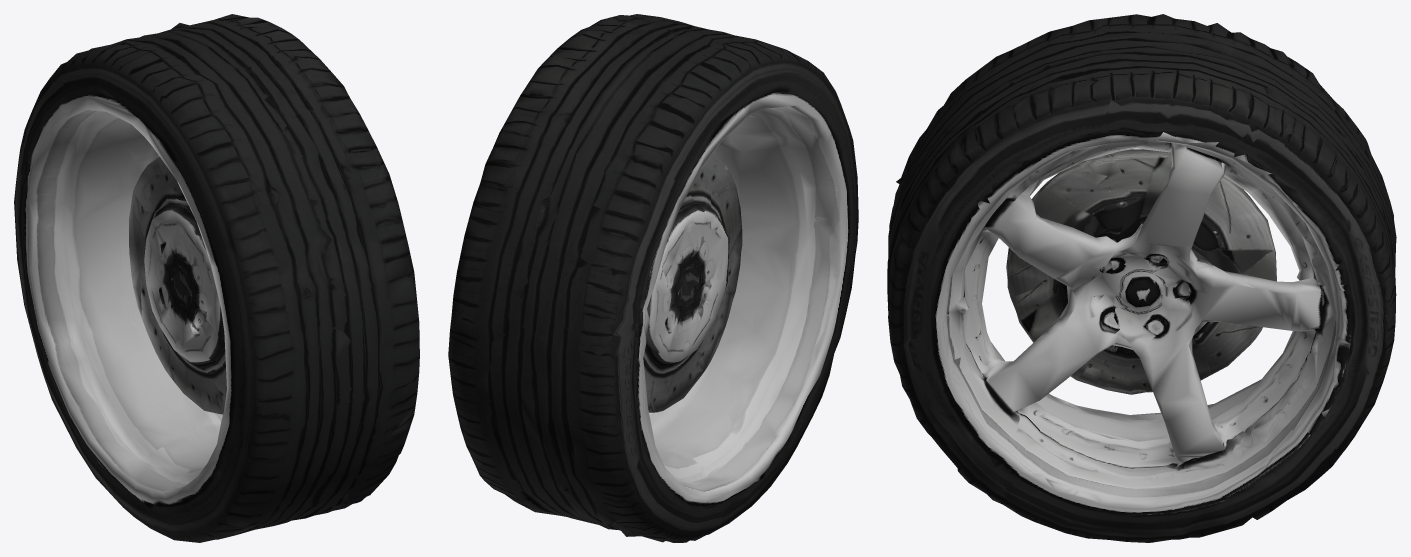
Rendered from five_spoke_wheel.obj.
3 renders of one model, left to right at view 1: azimuth 30°, elevation 25°; view 2: azimuth 150°, elevation 25°; view 3: azimuth 270°, elevation 25°, orthographic.
Parts seen in each view (by area): view 1: wheel; view 2: wheel; view 3: wheel.
Part boxes in pixels (left/top/right/bottom): wheel: left=14, top=14, right=419, bottom=542; wheel: left=448, top=14, right=858, bottom=542; wheel: left=887, top=14, right=1396, bottom=542.
Size of the model in its own units: 0.2891 by 0.7 by 0.6972.
